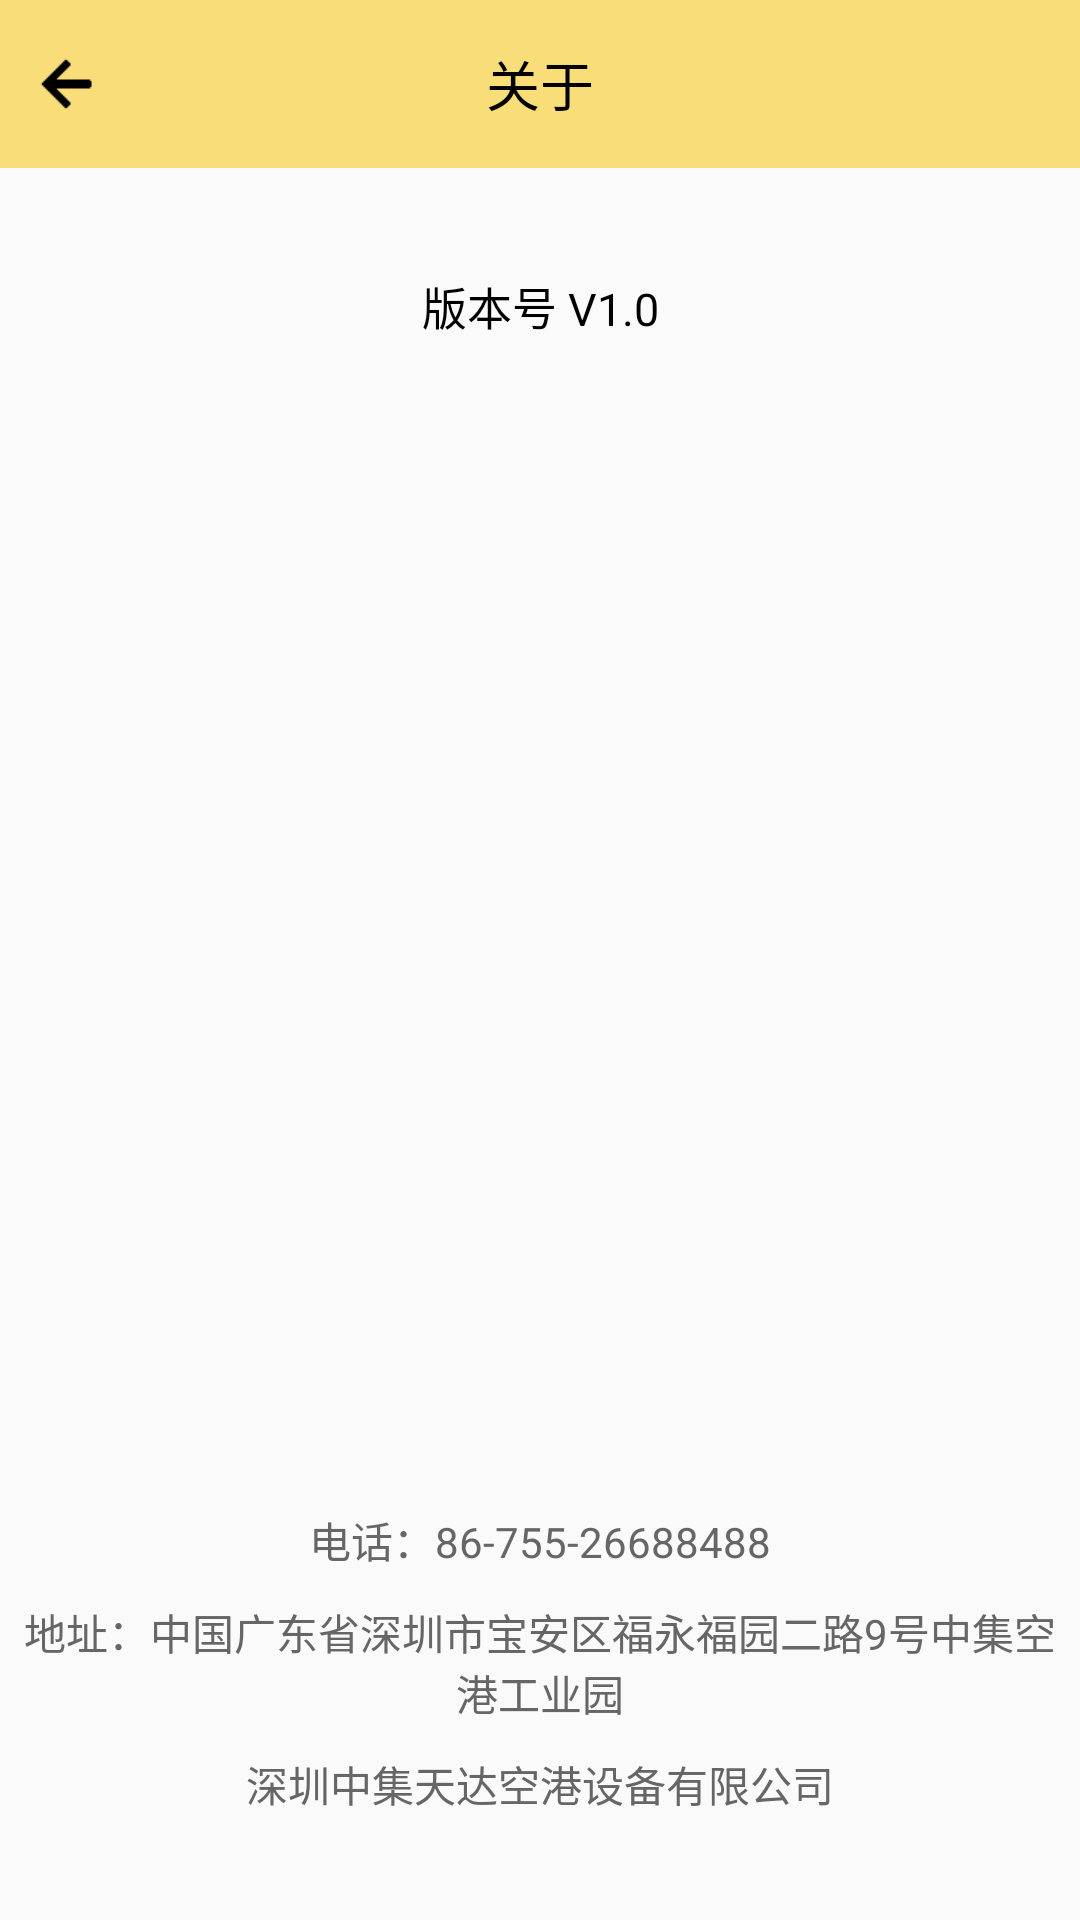

Icons on this 1080 × 1920 Android screen, each with its box as (x1, y1, x2, y2):
back: (41, 59, 92, 109)
